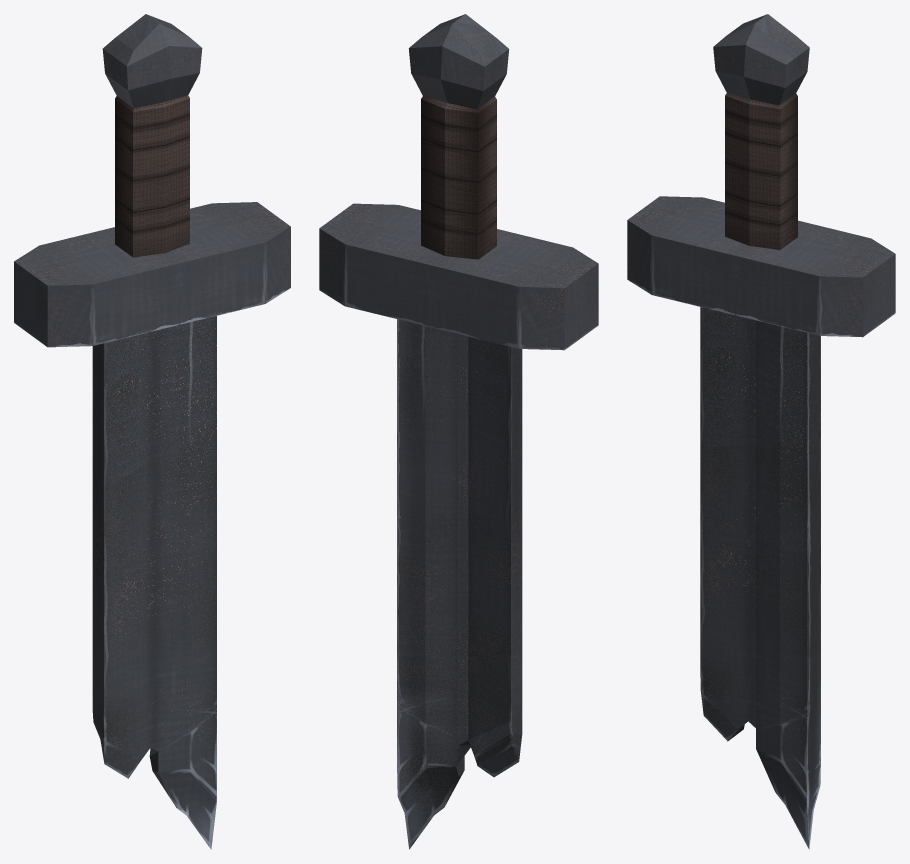
File: espada.fbx
3 renders of one model, left to right at view 1: azimuth 30°, elevation 25°; view 2: azimuth 150°, elevation 25°; view 3: azimuth 330°, elevation 25°, orthographic. The views are drawn at different scales.
Visible parts, largest first — view 1: espada; view 2: espada; view 3: espada.
Boxes of the visible parts, x1=… form: espada: x1=14, y1=14, x2=290, y2=849; espada: x1=319, y1=14, x2=598, y2=849; espada: x1=627, y1=14, x2=895, y2=849.
Bounding box in the file's own units: 0.2245 × 0.7415 × 0.0854.
Materials: 1 (1 with a texture image).
